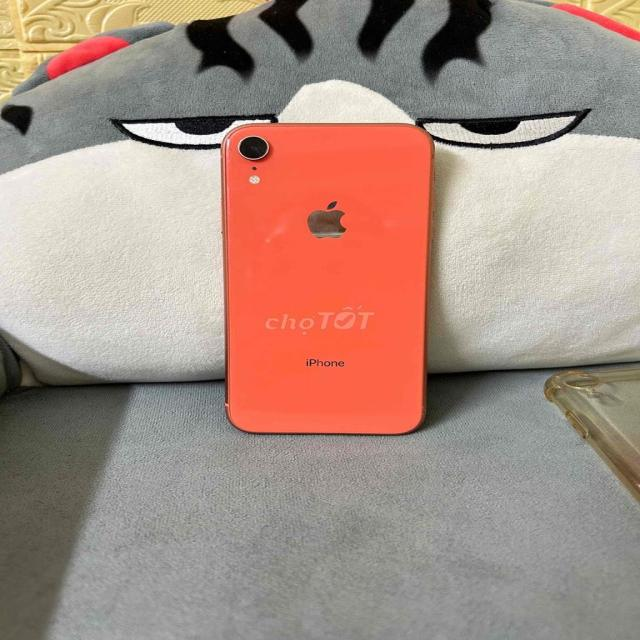scratch: (406, 390, 436, 431)
